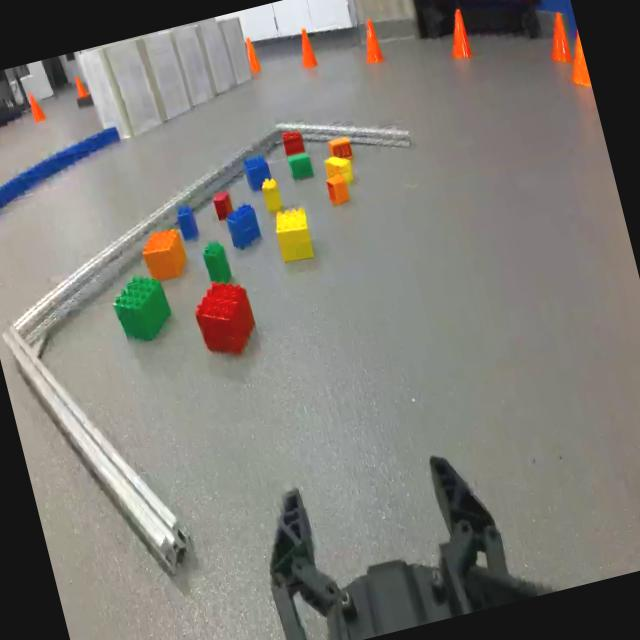block: (269, 203, 318, 268), (320, 150, 354, 186), (258, 175, 286, 218)
blue: (222, 200, 264, 252), (242, 150, 274, 192), (172, 202, 199, 241)
cone: (558, 16, 594, 98), (436, 1, 480, 66), (538, 5, 578, 70), (354, 12, 390, 68), (291, 22, 325, 74), (238, 32, 267, 82), (22, 88, 48, 126), (66, 65, 89, 107)
green: (106, 269, 176, 350), (198, 237, 233, 289), (286, 150, 315, 183)
metal barrier: (3, 119, 413, 584)
orange: (136, 226, 192, 290), (323, 172, 352, 207), (327, 135, 353, 163)
red goal: (187, 273, 261, 362), (280, 126, 306, 158), (209, 190, 233, 223)
river: (0, 121, 133, 231)
storage cube: (77, 35, 168, 146), (162, 13, 251, 114), (135, 29, 194, 125)
